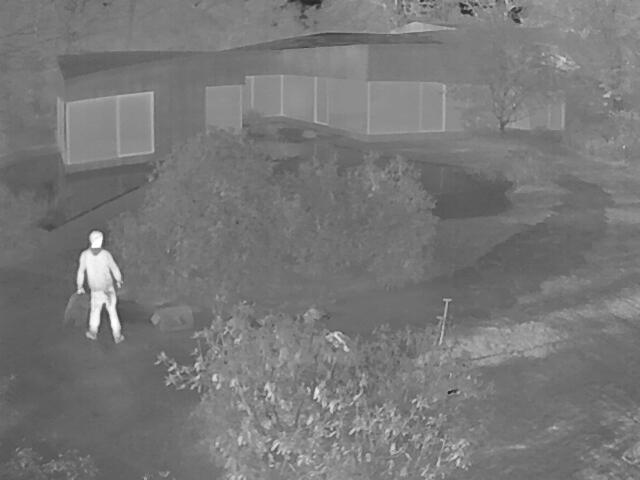person: (73, 229, 123, 345)
